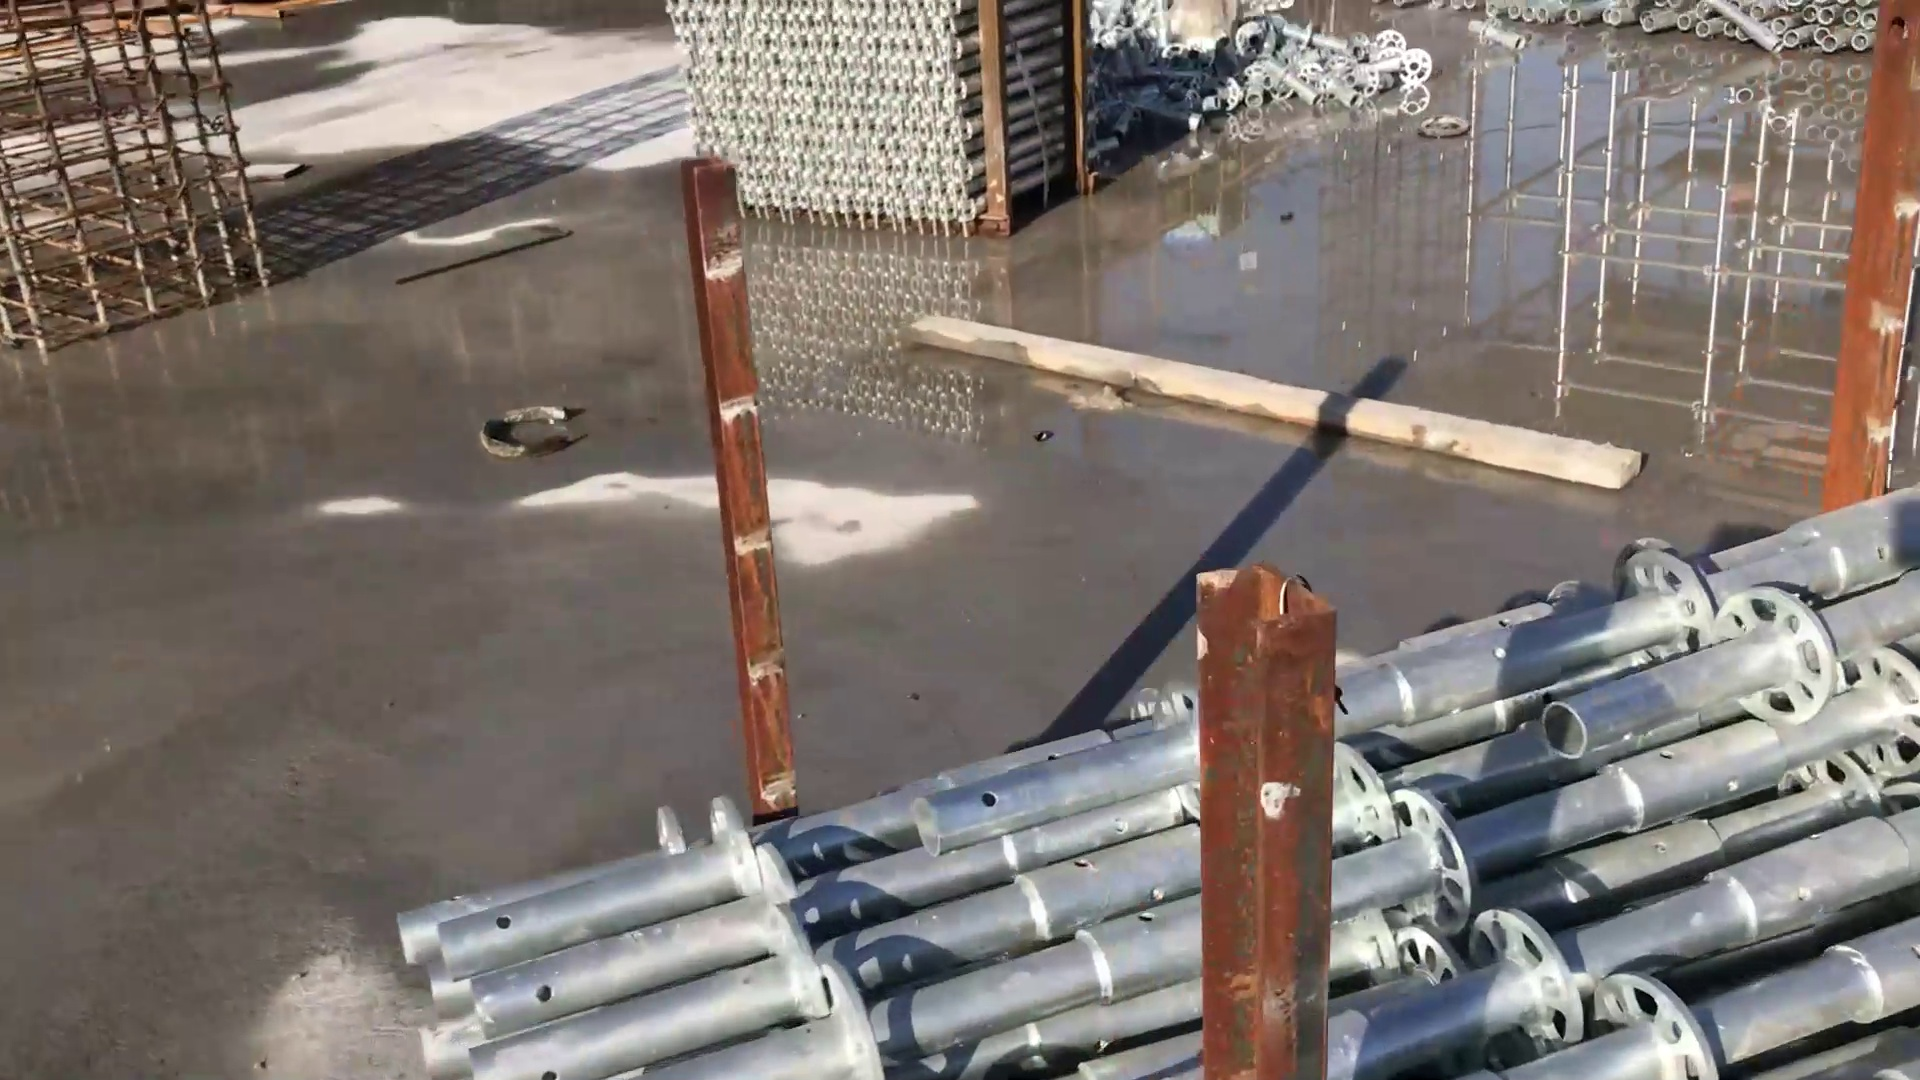scaffold: (397, 345, 1920, 1075), (651, 1, 1085, 272)
